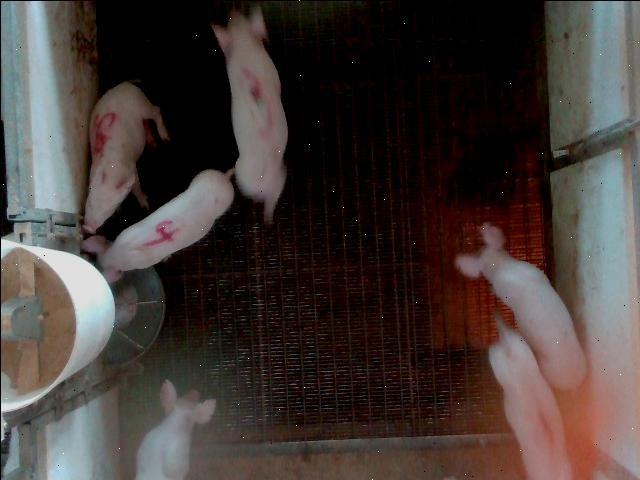pig-1: (488, 316, 571, 479)
pig-3: (210, 6, 288, 222)
pig-4: (81, 169, 232, 282)
pig-5: (82, 79, 169, 232)
